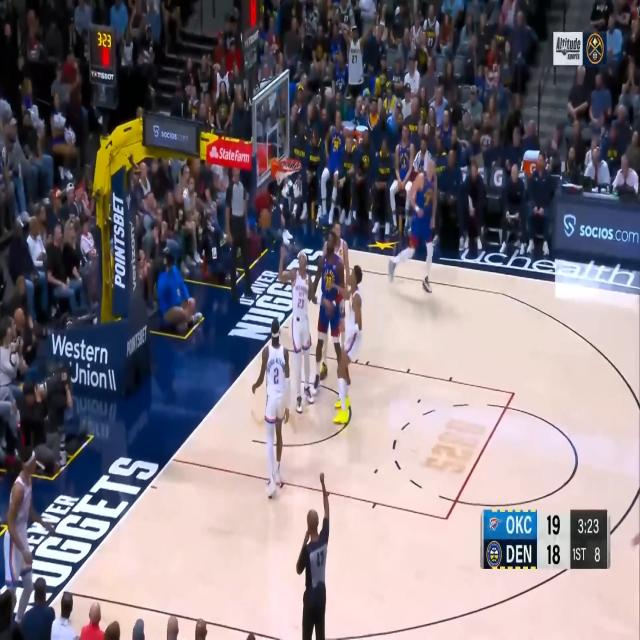Ball: (258, 208, 272, 232)
Hoop: (277, 159, 303, 195)
Period: (572, 546, 587, 562)
Player: (3, 442, 52, 626), (306, 228, 351, 394), (252, 314, 290, 497), (388, 160, 438, 294), (277, 245, 315, 414), (328, 264, 364, 426), (319, 219, 350, 381)
Ref: (296, 471, 330, 640), (224, 167, 256, 301)
Shot Clock: (592, 545, 602, 564)
Team Name: (506, 514, 533, 536), (506, 543, 532, 564)
Team Points: (546, 513, 561, 536), (546, 543, 561, 566)
Time Remaining: (578, 518, 600, 535)
